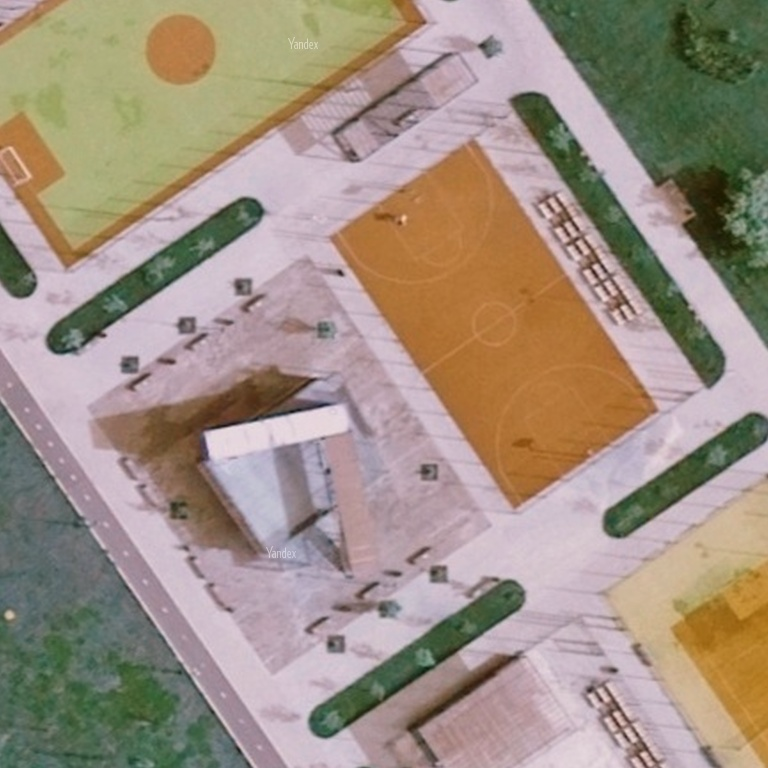basket_court: (311, 127, 681, 526)
